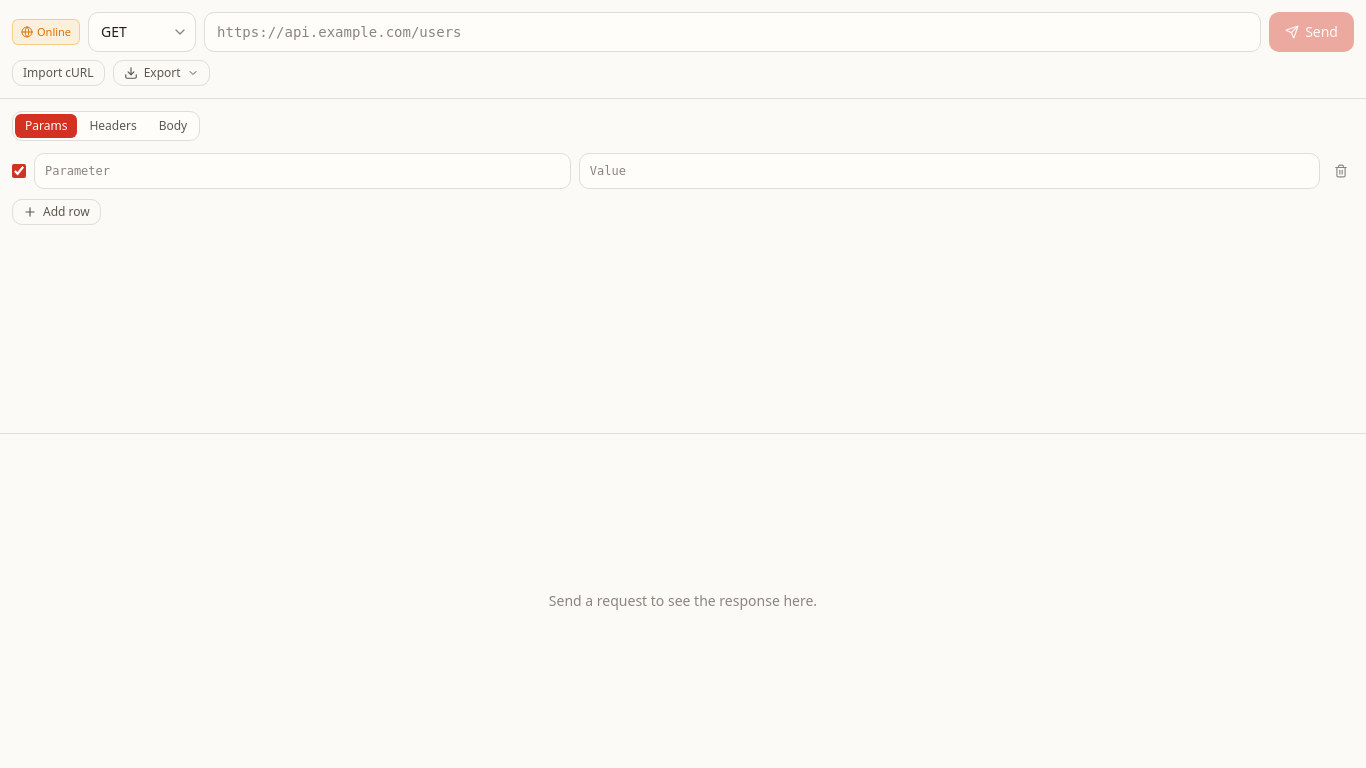
it: HttpClientTool › sends the request via the http_send command
Type "https://api.example.com" into the field named "Request URL" at (733, 32), box [204,12,1261,52]
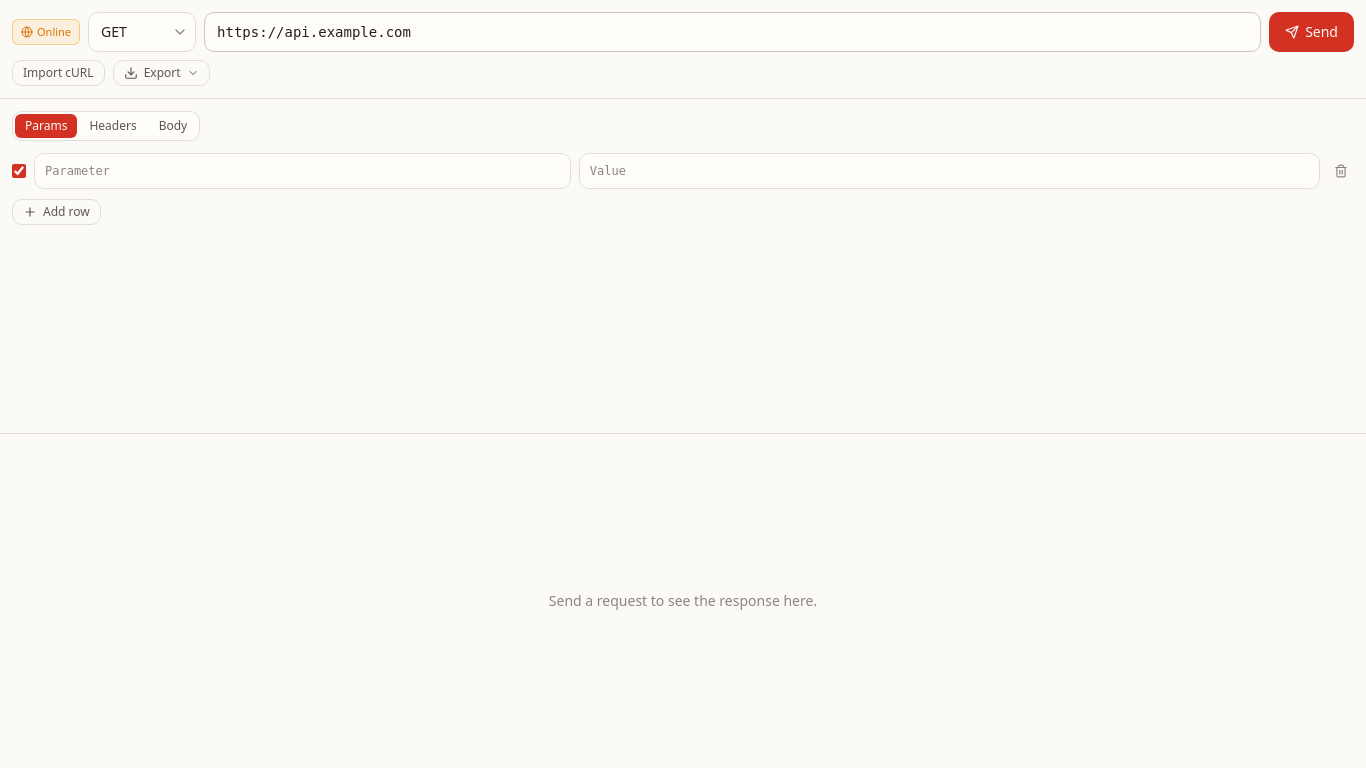
Click the button "Send" at (1312, 32), box [1269,12,1354,52]
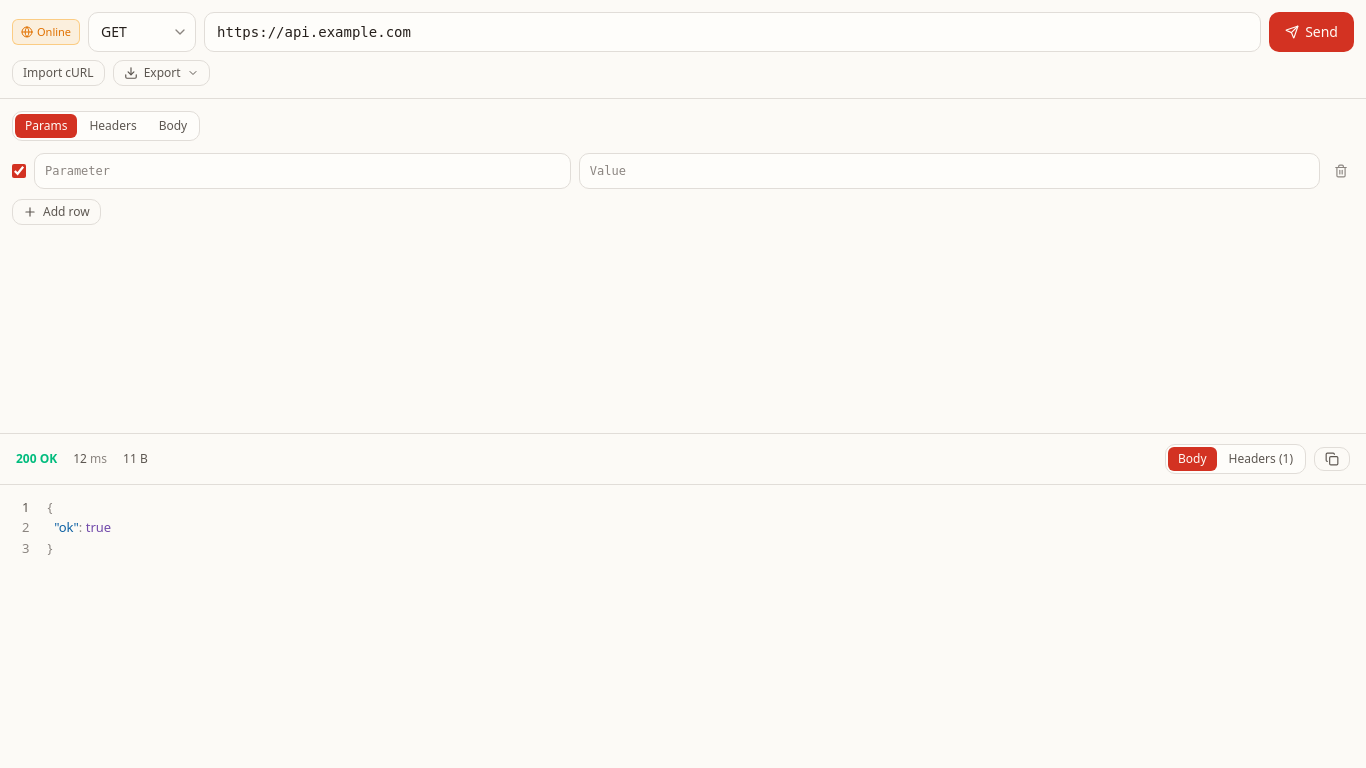
Check: the text "200 OK" is shown, box [16,450,57,466]
